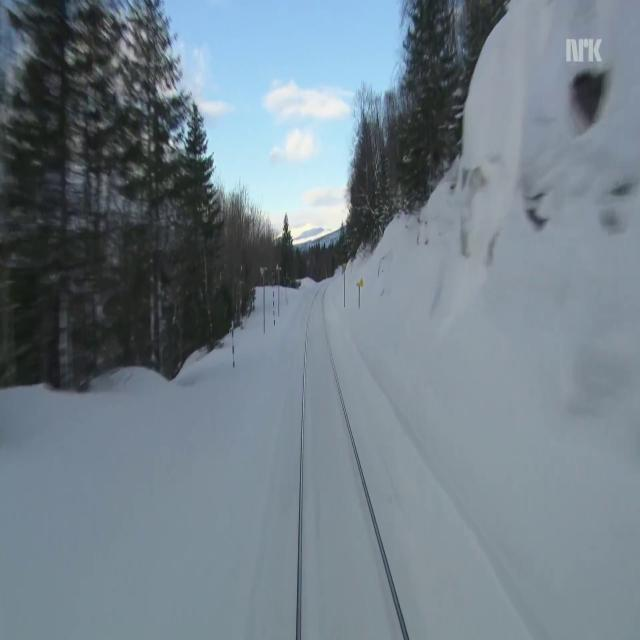rail-track: (302, 287, 404, 639)
